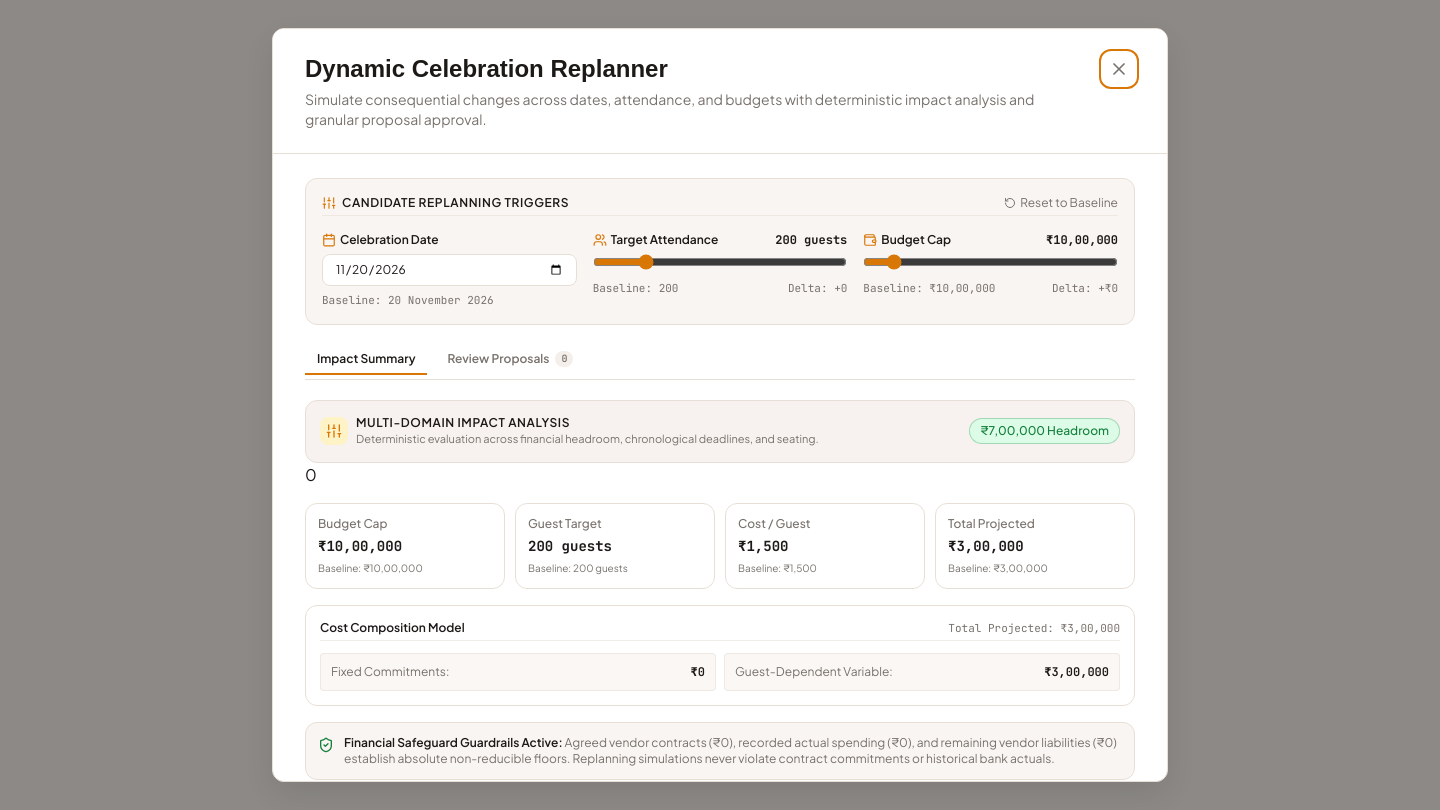
Test: Replanning UI Components › DynamicReplanningModal › renders modal controls and allows switching views
This screenshot has width=1440, height=810.
Expected: the heading "Dynamic Celebration Replanner" is shown, [305, 55, 668, 82]
Expected: the element with test id "replanning-impact-summary" is shown, [305, 400, 1135, 780]
Note: Change guest count to generate proposals
Step 1. Set the slider labelled "Target Attendance" to "250" → (659, 262), box [593, 254, 847, 270]
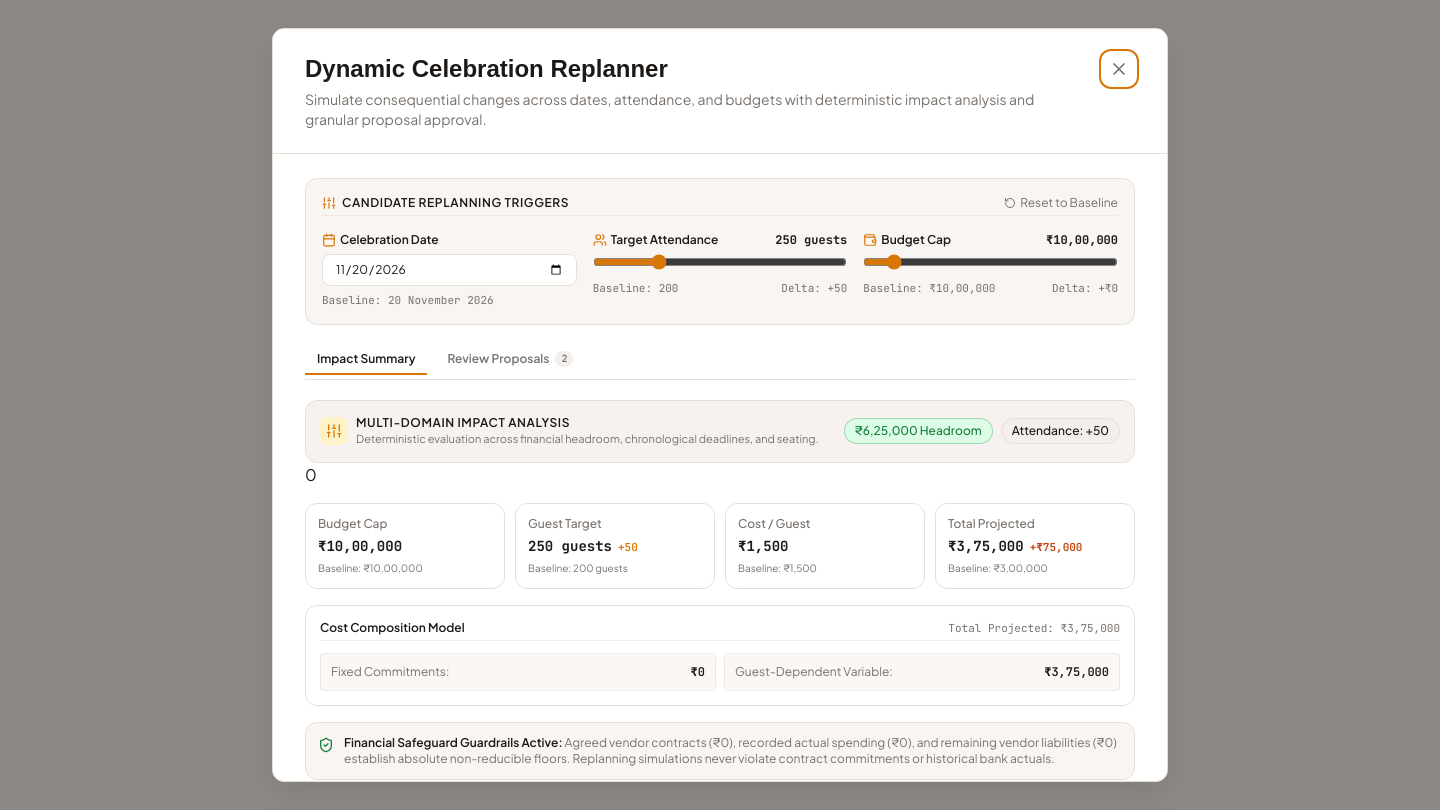
Note: Switch to Review Proposals view
Step 2. Click the tab "Review Proposals 2" → (510, 360), box [436, 345, 586, 375]
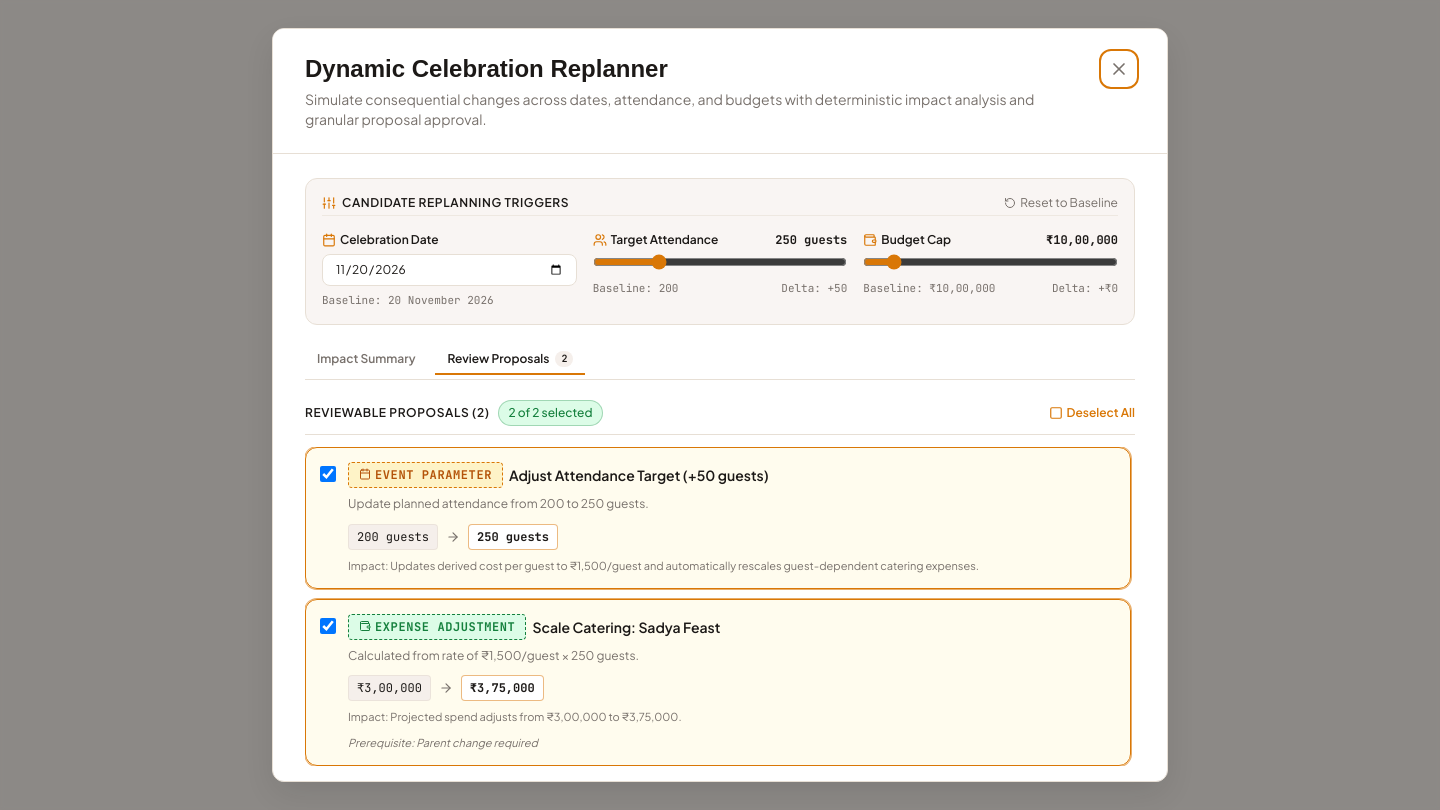
Expected: the element with test id "replanning-proposal-list" is shown, [305, 400, 1135, 766]
